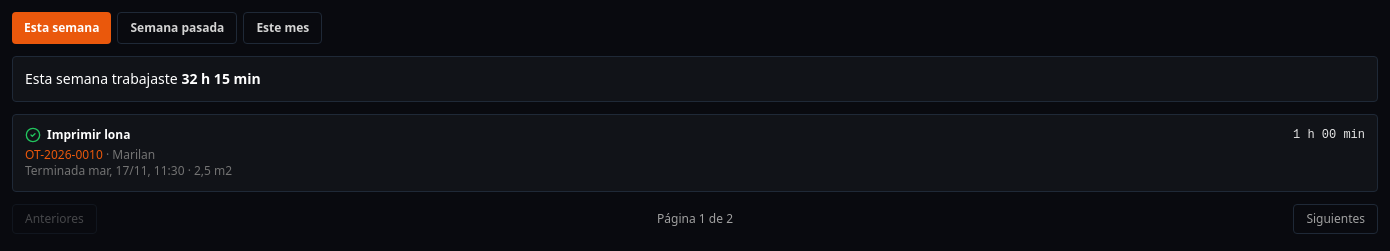
Scenario: Loop 15 — Terminadas (Mi trabajo) › cambiar a "Semana pasada" pide ese rango desde la página 1; paginado
Click the button "Siguientes" at [1336, 219], box top-left (1293, 204), bottom-right (1378, 234)
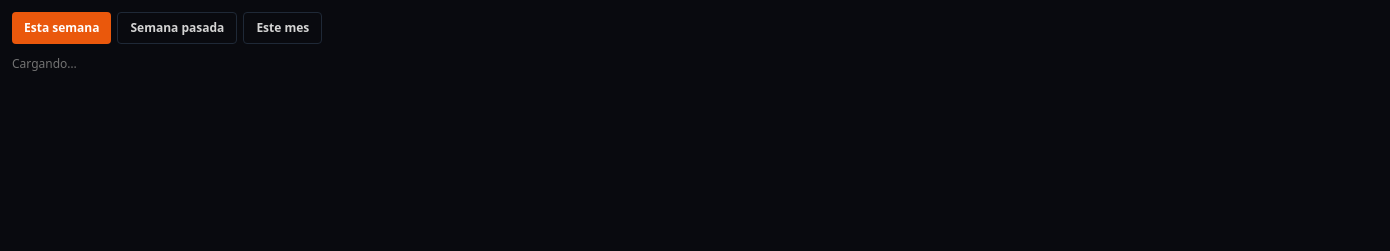
Click the button "Semana pasada" at [177, 28], box top-left (118, 12), bottom-right (237, 44)
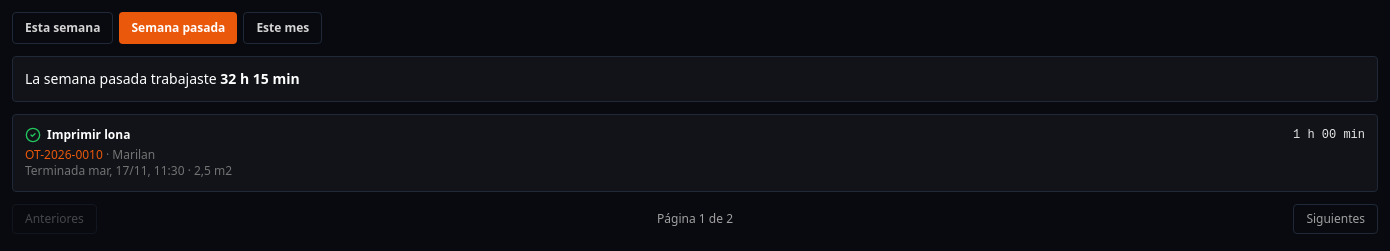
Expected: the element with test id "horas-periodo" shows "La semana pasada trabajaste", top-left (25, 69), bottom-right (217, 88)
